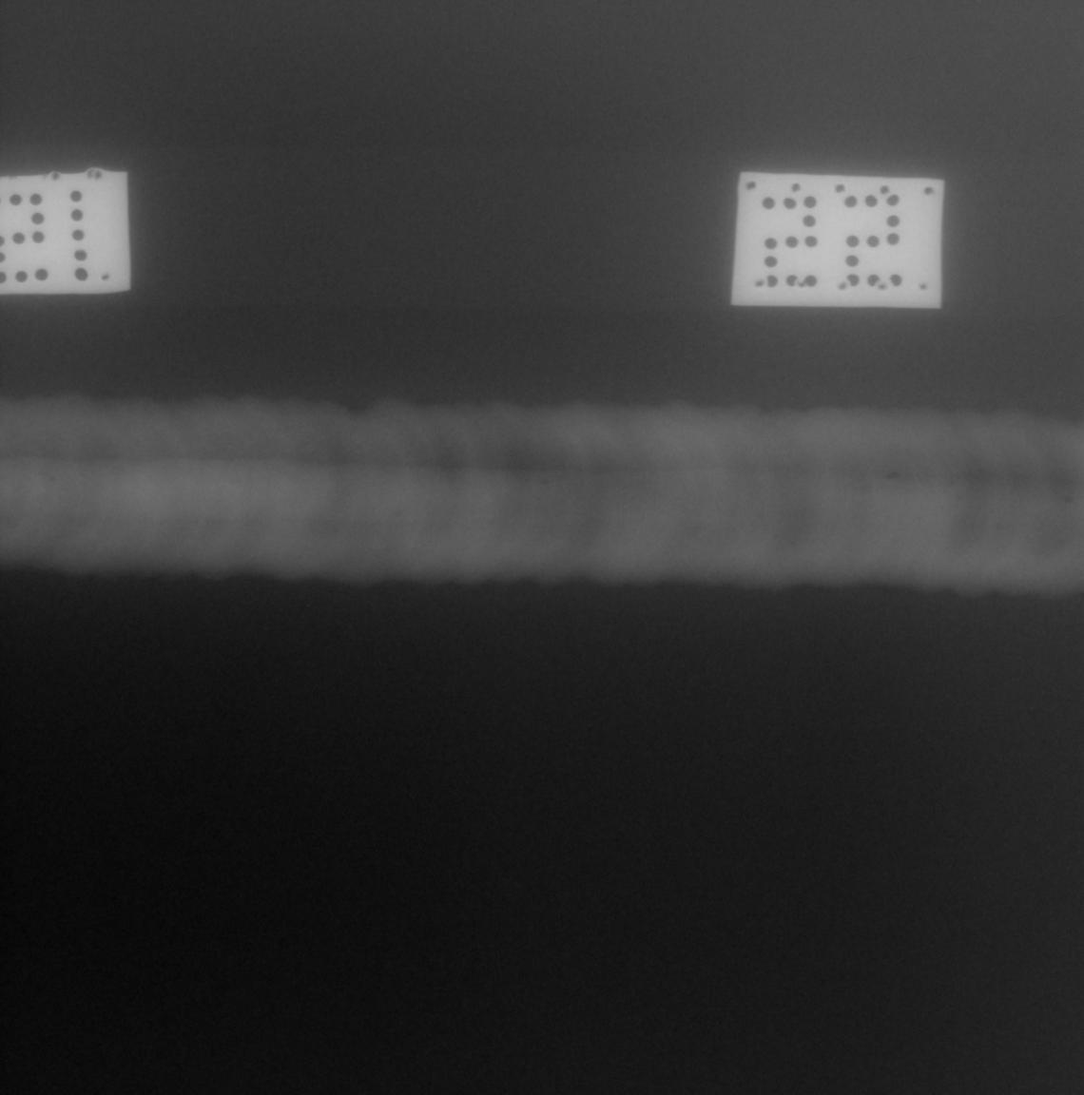Pore/Porosity: (888, 472, 898, 479), (1064, 496, 1072, 503), (395, 511, 402, 517), (541, 481, 548, 485), (996, 525, 1000, 530), (51, 477, 54, 481), (551, 459, 555, 462), (525, 479, 528, 481)
